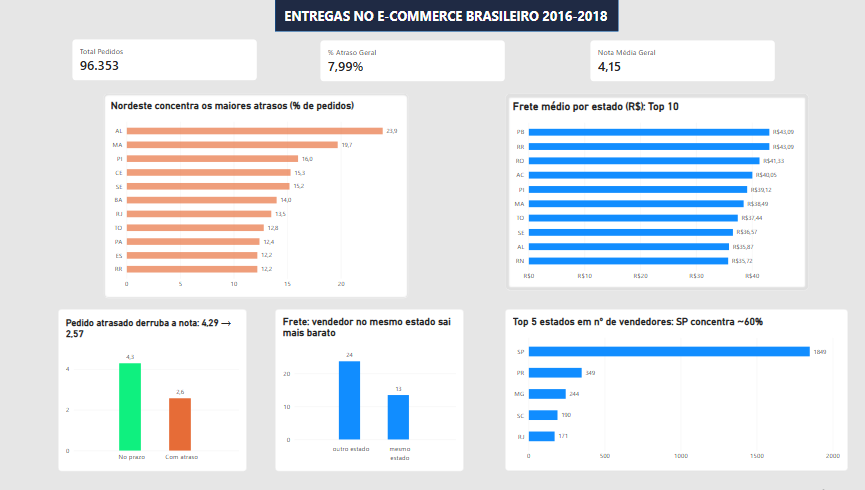

Layout of this report page (visuals, bound fields, positions):
{"tool":"powerbi","page":{"name":"Página 1","canvas":[1920,1080],"ordinal":0},"visuals":[{"type":"cardVisual","fields":{"Data":["nota.Total Pedidos Texto"]},"box":[161.6,87.2,400,90],"z":0},{"type":"cardVisual","fields":{"Data":["nota.% Atraso Geral"]},"box":[697.3,89.3,400,90],"z":1000},{"type":"cardVisual","fields":{"Data":["nota.Nota Média Geral"]},"box":[1279.8,89.3,400,90],"z":2000},{"type":"clusteredBarChart","title":"Nordeste concentra os maiores atrasos (% de pedidos)","fields":{"Category":["frete.customer_state"],"Y":["Sum(atraso.pct_atraso)"]},"box":[229.6,202,661.2,444.3],"z":3000},{"type":"clusteredBarChart","title":"Frete médio por estado (R$): Top 10","fields":{"Category":["atraso.customer_state"],"Y":["Sum(frete.frete_medio)"]},"box":[1097,202,656.9,427.3],"z":4000},{"type":"columnChart","title":"Pedido atrasado derruba a nota: 4,29 → 2,57","fields":{"Category":["nota.Situação"],"Y":["Sum(nota.nota_media)"]},"box":[131.8,669.7,408.2,350.8],"z":5000},{"type":"columnChart","title":"Frete: vendedor no mesmo estado sai mais barato","fields":{"Category":["prazo_frete.tipo"],"Y":["Sum(prazo_frete.frete_medio)"]},"box":[599.5,669.7,408.2,350.8],"z":6000},{"type":"clusteredBarChart","title":"Top 5 estados em nº de vendedores: SP concentra ~60%","fields":{"Category":["vendedores.seller_state"],"Y":["Sum(vendedores.vendedores)"]},"box":[1097.3,669.6,740.9,349.9],"z":7000},{"type":"shape","box":[600,0,742,70.2],"z":8000}]}

Visuals, with their boxes in screenshot pixels (x1, y1, x2, y2), scaled from the page's 1920x1080 canvas onto the 865x490 screenshot:
cardVisual - nota.Total Pedidos Texto: (left=73, top=40, right=253, bottom=80)
cardVisual - nota.% Atraso Geral: (left=314, top=41, right=494, bottom=81)
cardVisual - nota.Nota Média Geral: (left=577, top=41, right=757, bottom=81)
"Nordeste concentra os maiores atrasos (% de pedidos)" clusteredBarChart: (left=103, top=92, right=401, bottom=293)
"Frete médio por estado (R$): Top 10" clusteredBarChart: (left=494, top=92, right=790, bottom=286)
"Pedido atrasado derruba a nota: 4,29 → 2,57" columnChart: (left=59, top=304, right=243, bottom=463)
"Frete: vendedor no mesmo estado sai mais barato" columnChart: (left=270, top=304, right=454, bottom=463)
"Top 5 estados em nº de vendedores: SP concentra ~60%" clusteredBarChart: (left=494, top=304, right=828, bottom=463)
shape: (left=270, top=0, right=605, bottom=32)
